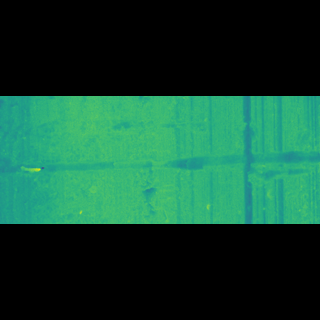Loch: (0, 142, 320, 173), (0, 134, 156, 186)
